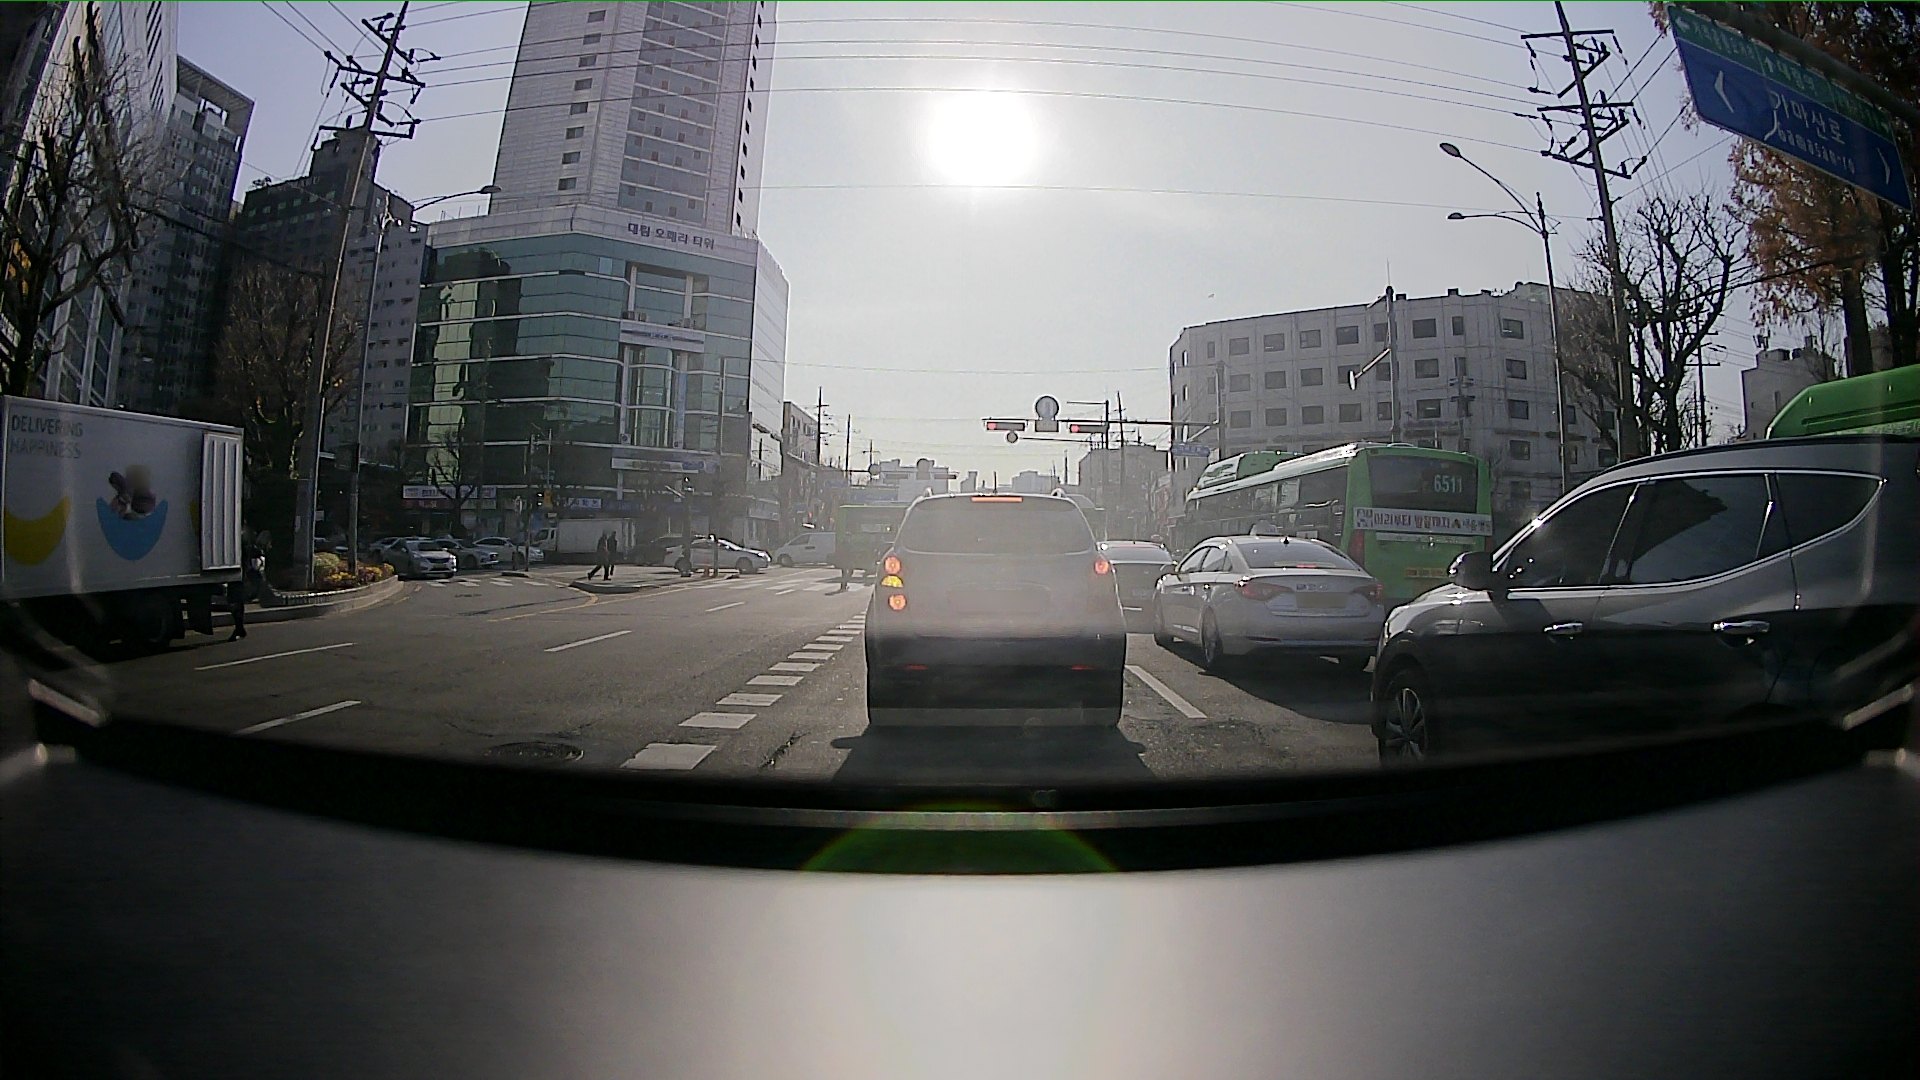trafficLight: (984, 419, 1022, 435), (1065, 425, 1110, 431)
trafficSignCircle: (1033, 394, 1056, 419)
